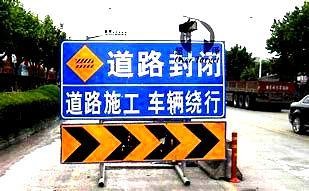sign: (60, 39, 225, 161)
